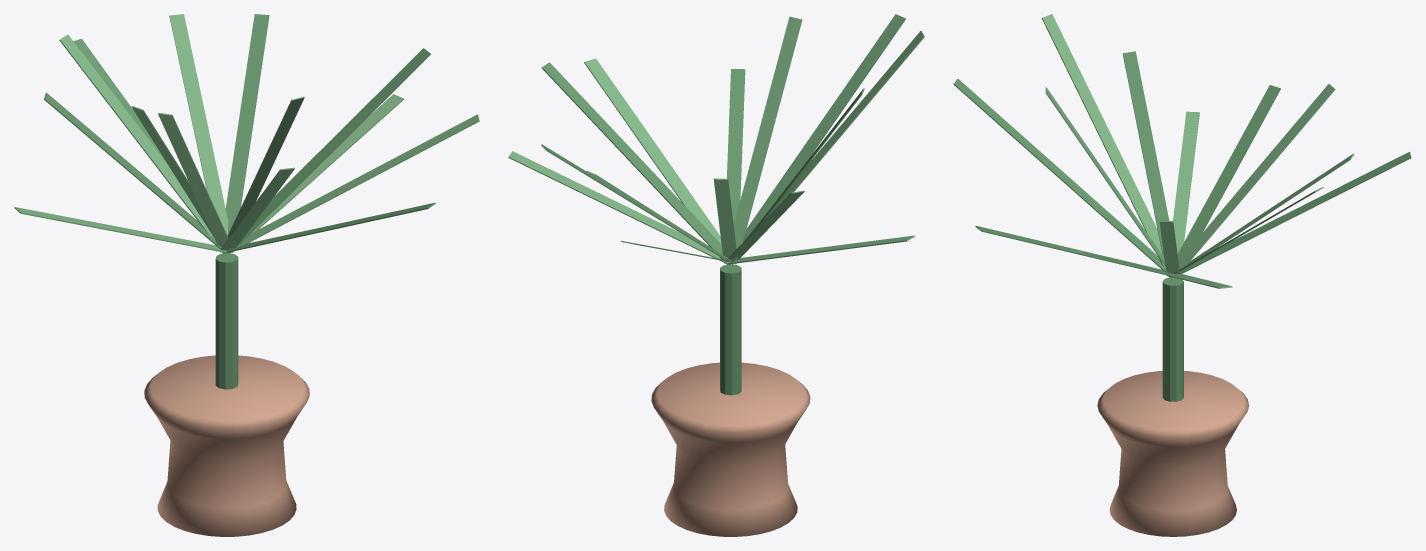
Rendered from palm_urn.glb.
The picture shows the model from 3 angles, left to right: view 1: azimuth 30°, elevation 25°; view 2: azimuth 150°, elevation 25°; view 3: azimuth 270°, elevation 25°; orthographic projection. The views are drawn at different scales.
Parts seen in each view (by area): view 1: palm_urn; view 2: palm_urn; view 3: palm_urn.
Part boxes in pixels (x1=…): palm_urn: x1=14, y1=14, x2=479, y2=536; palm_urn: x1=508, y1=14, x2=924, y2=536; palm_urn: x1=953, y1=14, x2=1411, y2=536.
Bounding box in the file's own units: 2.8 × 3.21 × 3.02.
